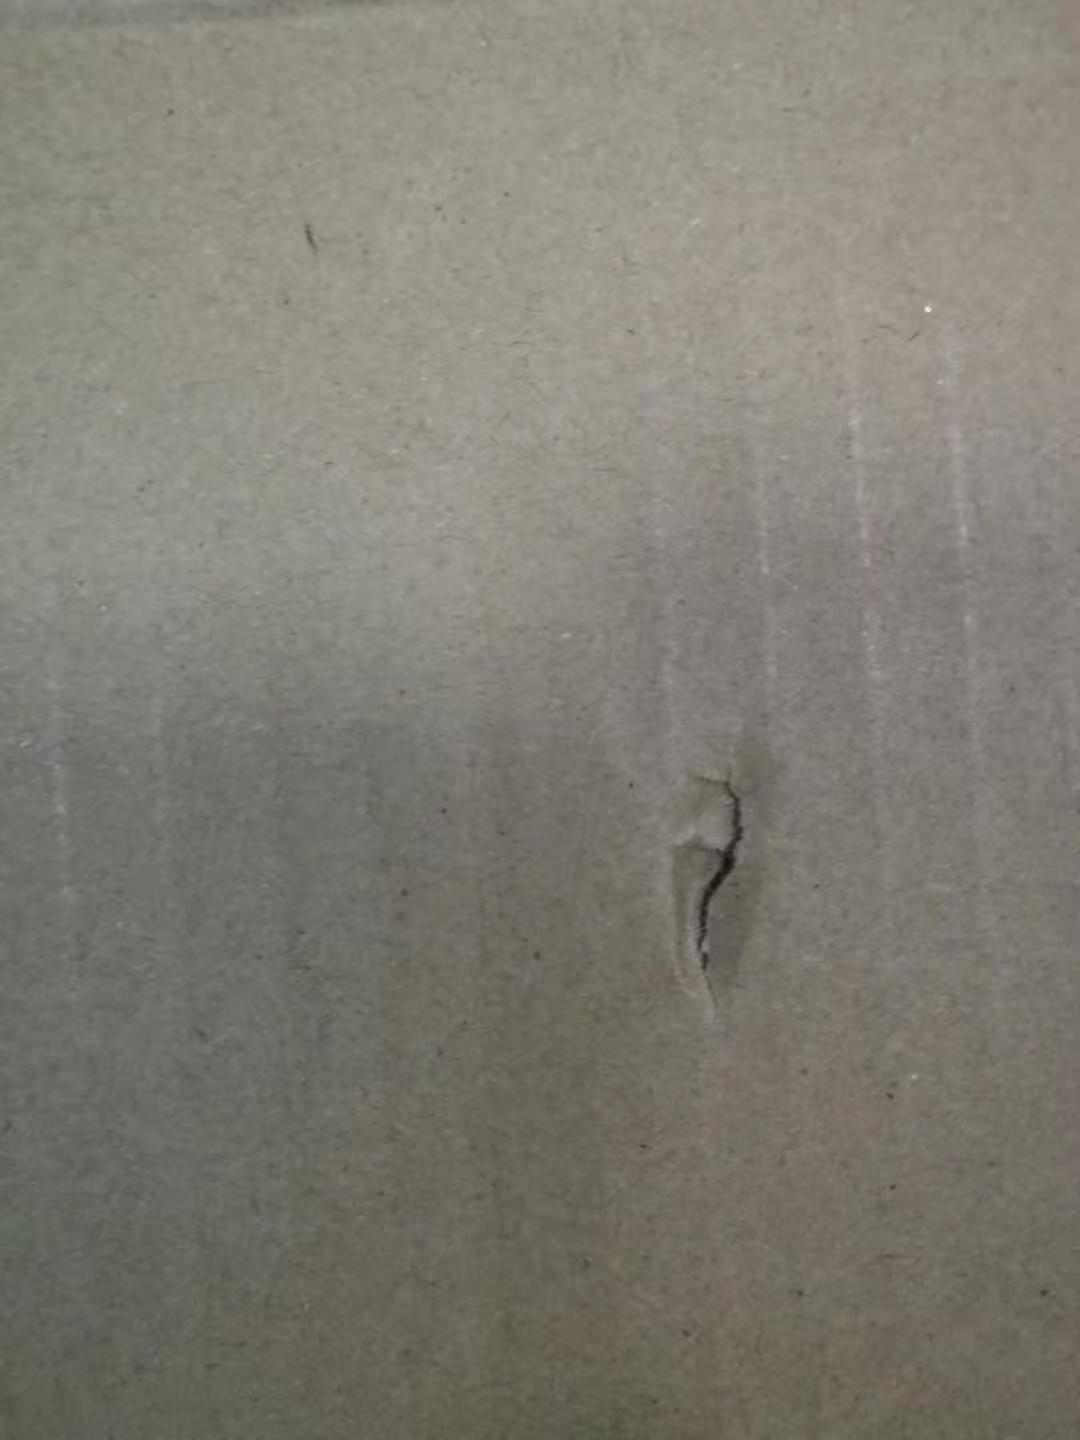defect: (621, 698, 808, 1061)
